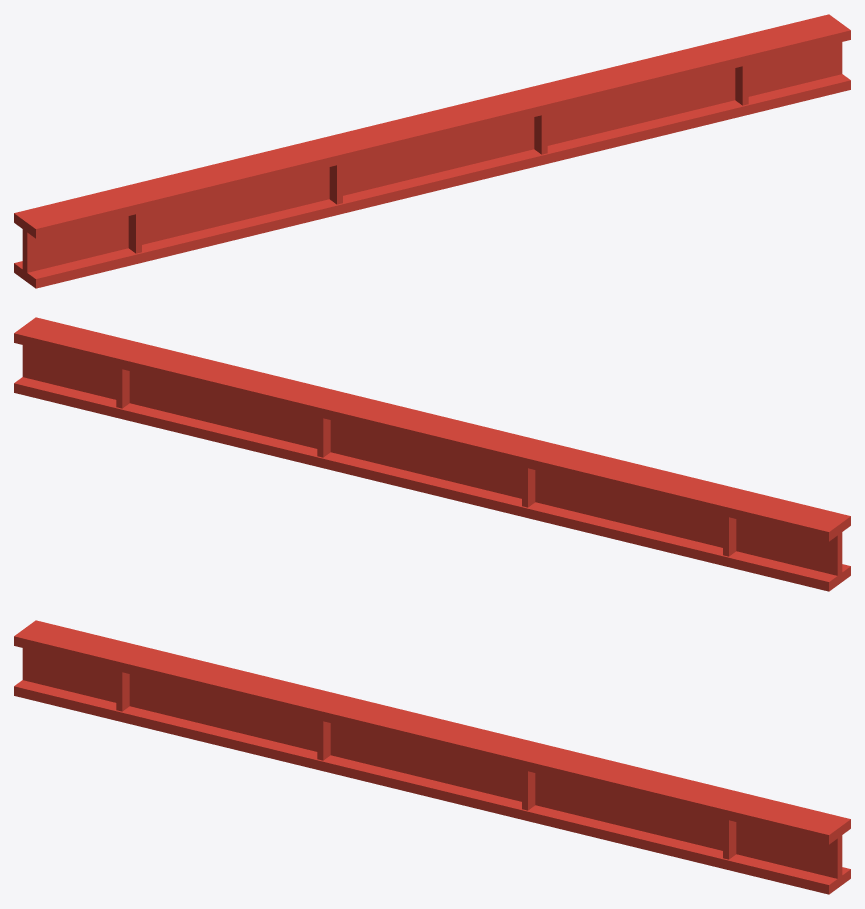
Rendered from red-girder.glb.
3 renders of one model, top to bottom at view 1: azimuth 30°, elevation 25°; view 2: azimuth 150°, elevation 25°; view 3: azimuth 330°, elevation 25°, orthographic.
Parts seen in each view (by area): view 1: red-girder; view 2: red-girder; view 3: red-girder.
Boxes of the visible parts, x1,y1,x2,y2 form: red-girder: (14, 14, 850, 288); red-girder: (14, 317, 850, 591); red-girder: (14, 620, 850, 894).
Bounding box in the file's own units: 21.5 × 1.5 × 1.
